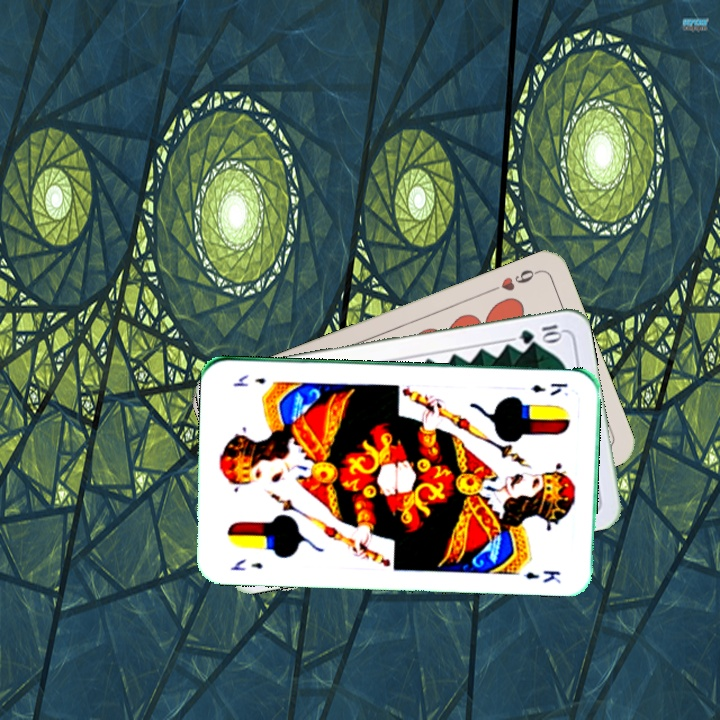EK: (526, 379, 570, 398), (227, 555, 265, 573)
G10: (515, 320, 565, 346)
H9: (485, 265, 542, 295)
